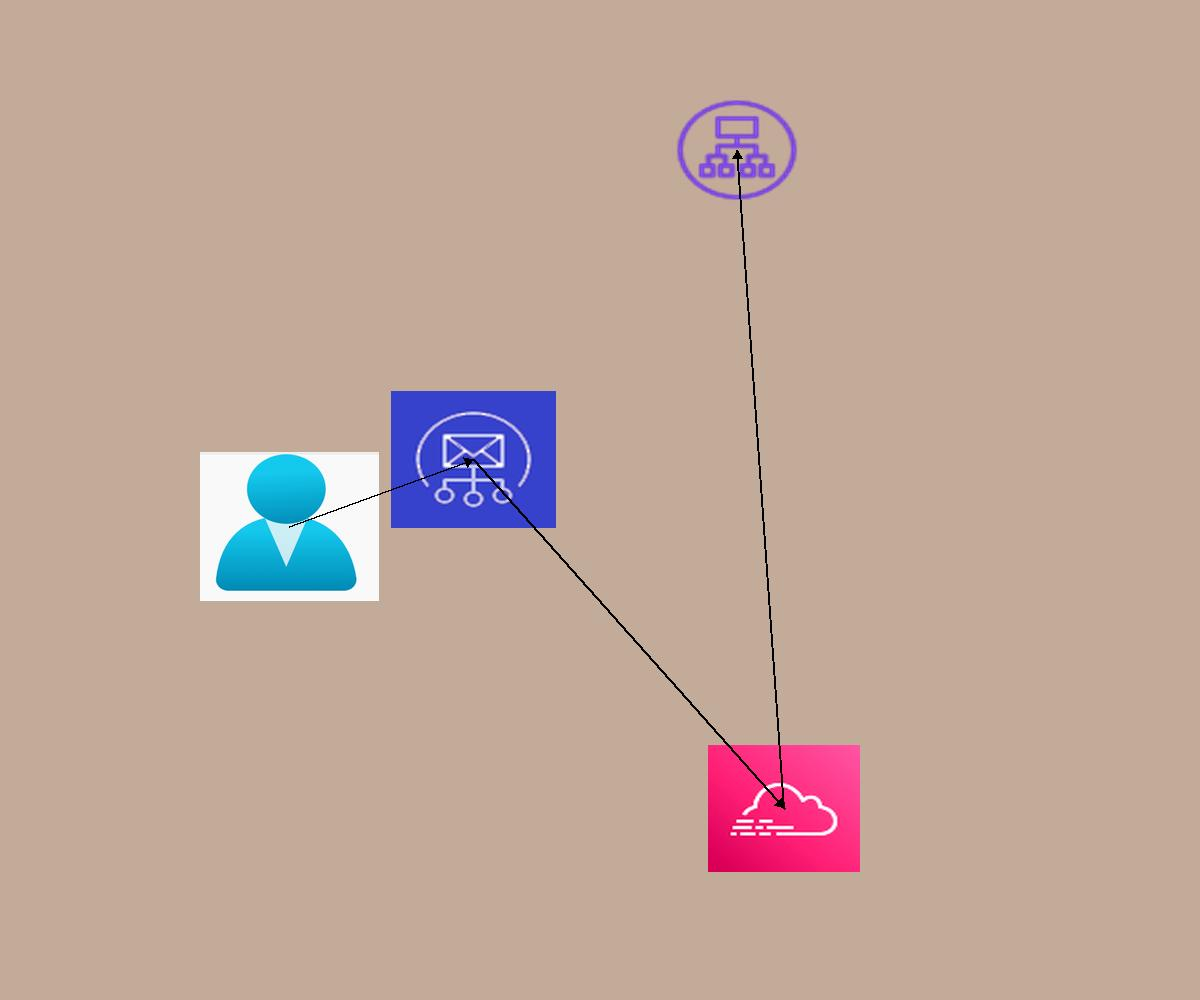AWS-CloudTrail: (708, 745, 860, 872)
AWS-Res_Elastic-Load-Balancing_Application-Load-Balancer: (672, 96, 802, 204)
AWS-Simple-Email-Service: (391, 391, 556, 528)
Azure_users: (200, 452, 379, 601)
